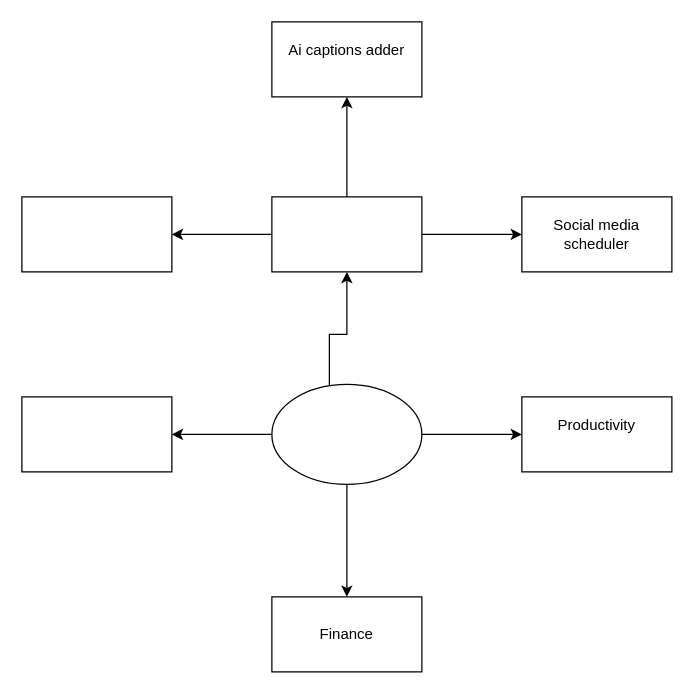
Image size: 694x694. Some labels were removed from this diagram. Each missing label, with the centre of its shape:
"Possible idea spaces" goes at (346,433).
"Social media" goes at (346,234).
